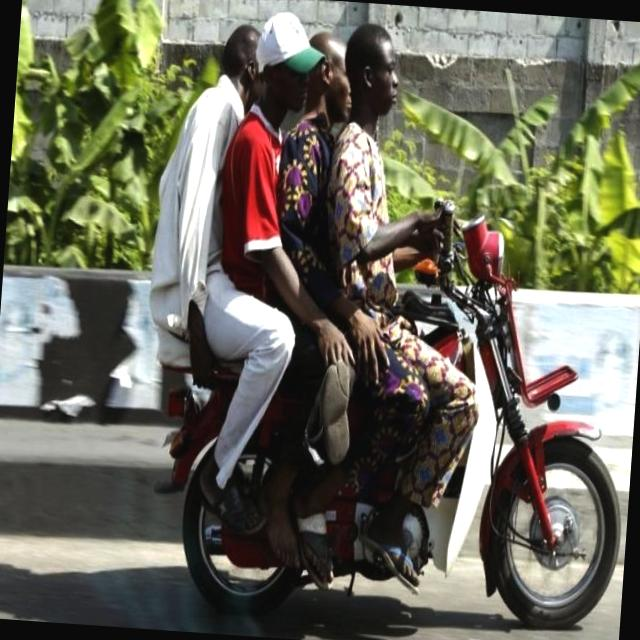motorcycle: (146, 250, 640, 640)
person: (314, 19, 506, 490), (155, 13, 312, 474), (208, 1, 335, 422), (264, 25, 370, 452)
rider_region: (134, 7, 640, 640)
